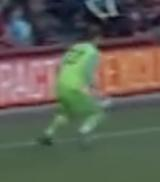goalkeeper: (29, 24, 117, 160)
